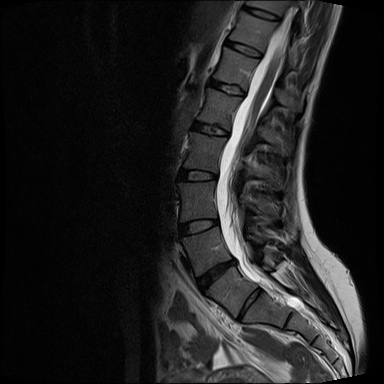Lumbar Disc Bulge (LDB): (187, 249, 249, 301)
Normal IVD: (171, 206, 225, 244), (214, 34, 267, 62), (199, 73, 250, 101), (165, 162, 220, 187), (185, 115, 233, 141), (240, 2, 285, 26)
Spinal Stenosis (SS): (219, 245, 244, 282)
